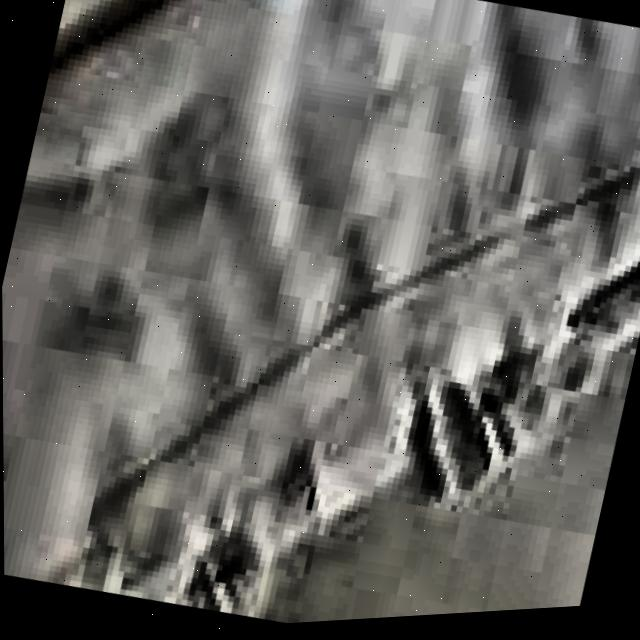paper: (2, 0, 640, 621)
